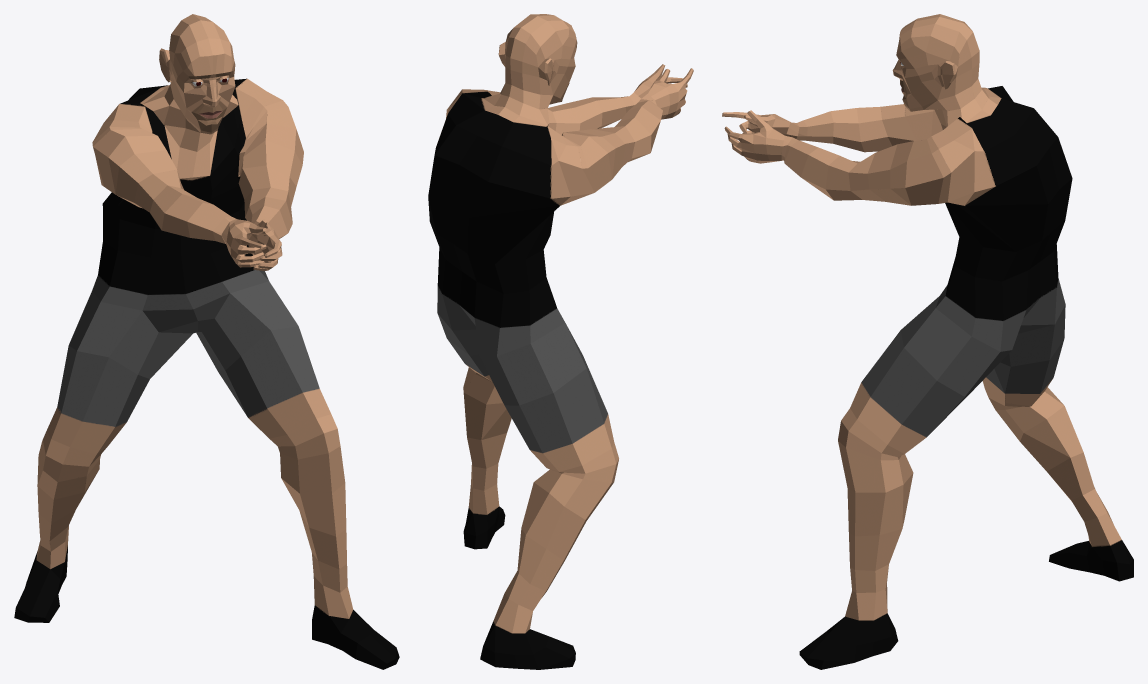
The model's file is PlayerShoot(35).obj.
The picture shows the model from 3 angles, left to right: view 1: azimuth 30°, elevation 25°; view 2: azimuth 150°, elevation 25°; view 3: azimuth 270°, elevation 25°; orthographic projection. The views are drawn at different scales.
Visible parts, largest first — view 1: Plane002; view 2: Plane002; view 3: Plane002.
Part boxes in pixels (x1,y1,x2,y2): Plane002: (14, 14, 399, 669); Plane002: (428, 14, 693, 669); Plane002: (722, 14, 1133, 669).
Bounding box in the file's own units: 716 × 1665 × 1053.
